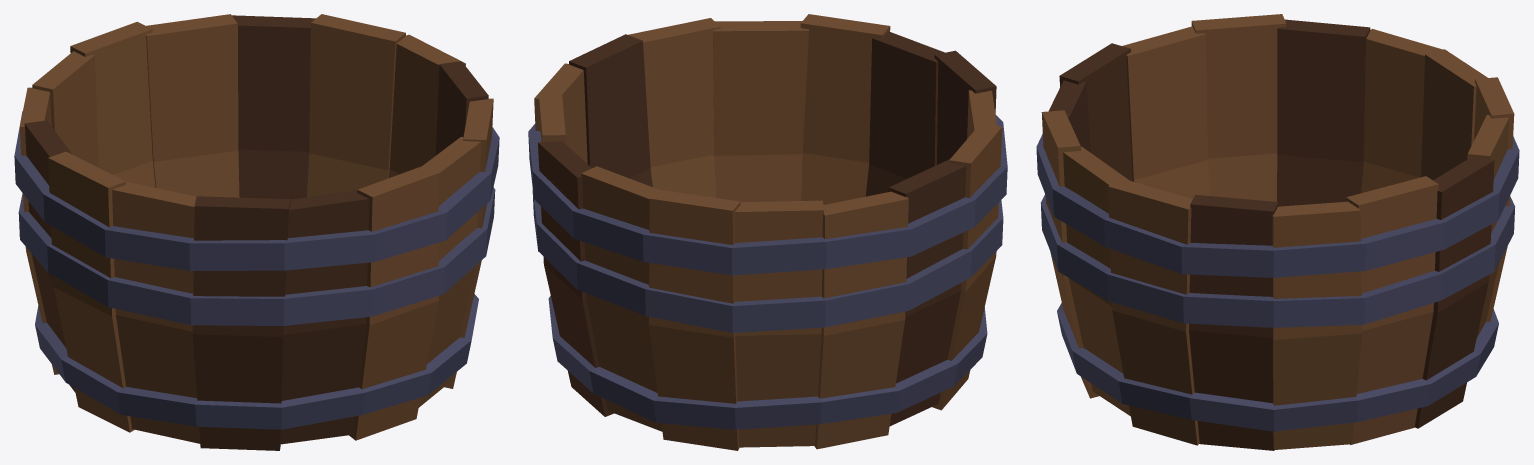
Rendered from Wooden_Barrel04.fbx.
3 views of the same model, side by side, from view 1: azimuth 30°, elevation 25°; view 2: azimuth 150°, elevation 25°; view 3: azimuth 270°, elevation 25° (orthographic).
Parts seen in each view (by area): view 1: SM_Wooden_Half_Barrel; view 2: SM_Wooden_Half_Barrel; view 3: SM_Wooden_Half_Barrel.
Part boxes in pixels (x1,y1,x2,y2): SM_Wooden_Half_Barrel: (14, 14, 499, 450); SM_Wooden_Half_Barrel: (528, 14, 1007, 450); SM_Wooden_Half_Barrel: (1036, 14, 1519, 450).
Bounding box in the file's own units: 0.6045 × 1.04 × 1.04.
